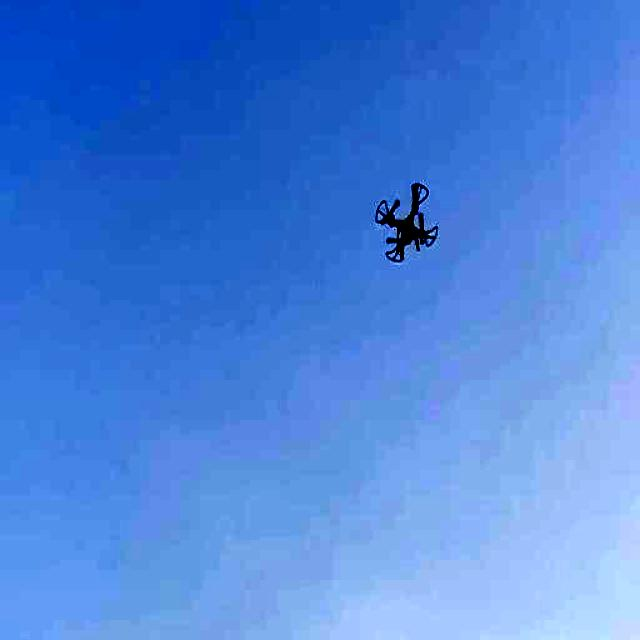bird: (374, 160, 441, 268)
